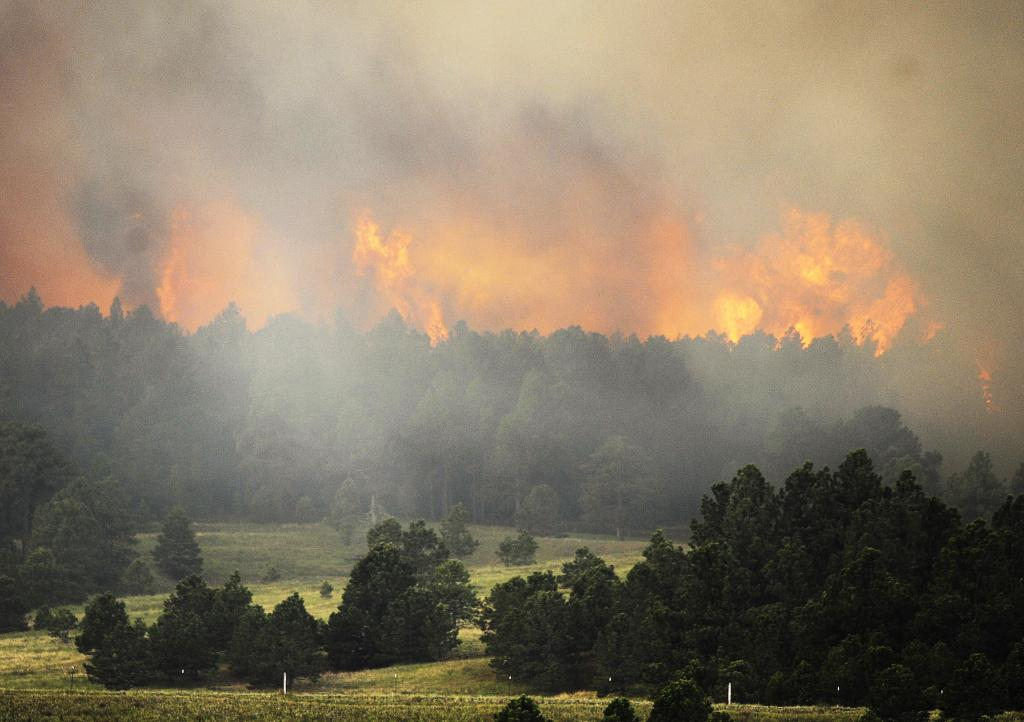Fire: (339, 210, 938, 349)
